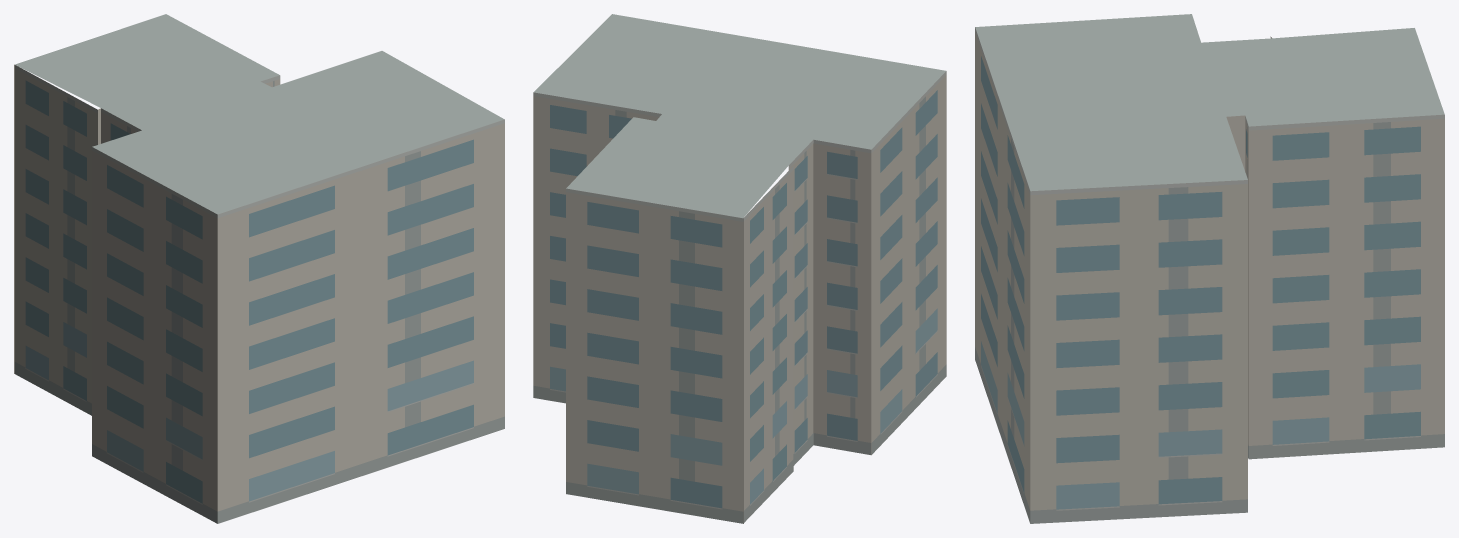
Rendered from survey-upis-32699443.glb.
The picture shows the model from 3 angles, left to right: view 1: azimuth 30°, elevation 25°; view 2: azimuth 150°, elevation 25°; view 3: azimuth 270°, elevation 25°; orthographic projection. The views are drawn at different scales.
Parts seen in each view (by area): view 1: survey-upis-32699443.tmp; view 2: survey-upis-32699443.tmp; view 3: survey-upis-32699443.tmp.
Part boxes in pixels (x1,y1,x2,y2): survey-upis-32699443.tmp: (14, 14, 504, 523); survey-upis-32699443.tmp: (533, 14, 946, 523); survey-upis-32699443.tmp: (975, 14, 1444, 523).
Bounding box in the file's own units: 22.86 × 20 × 25.6.
